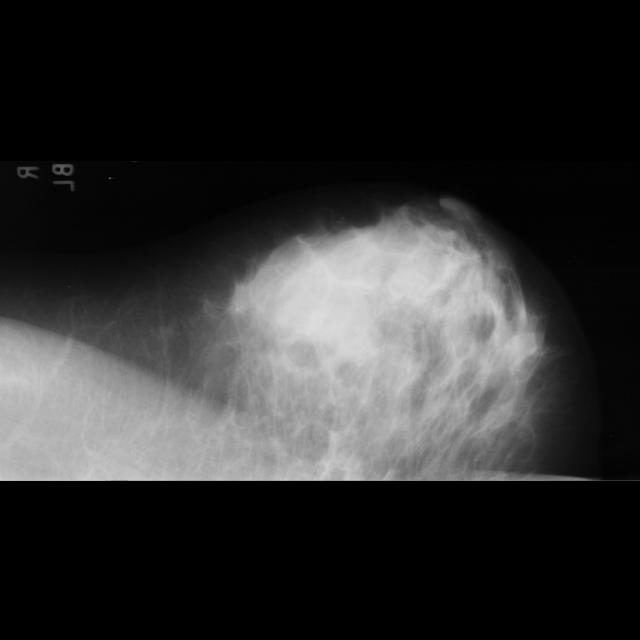CALC: (0, 402, 384, 619)
